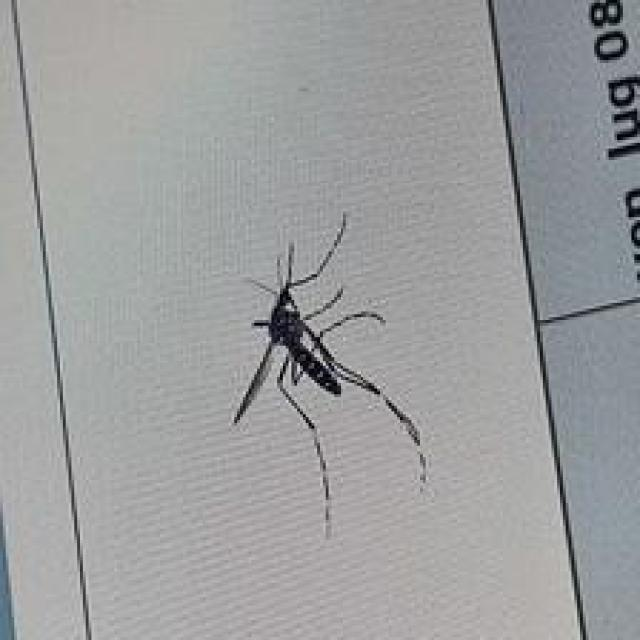Aedes albopictus: (232, 211, 428, 540)
